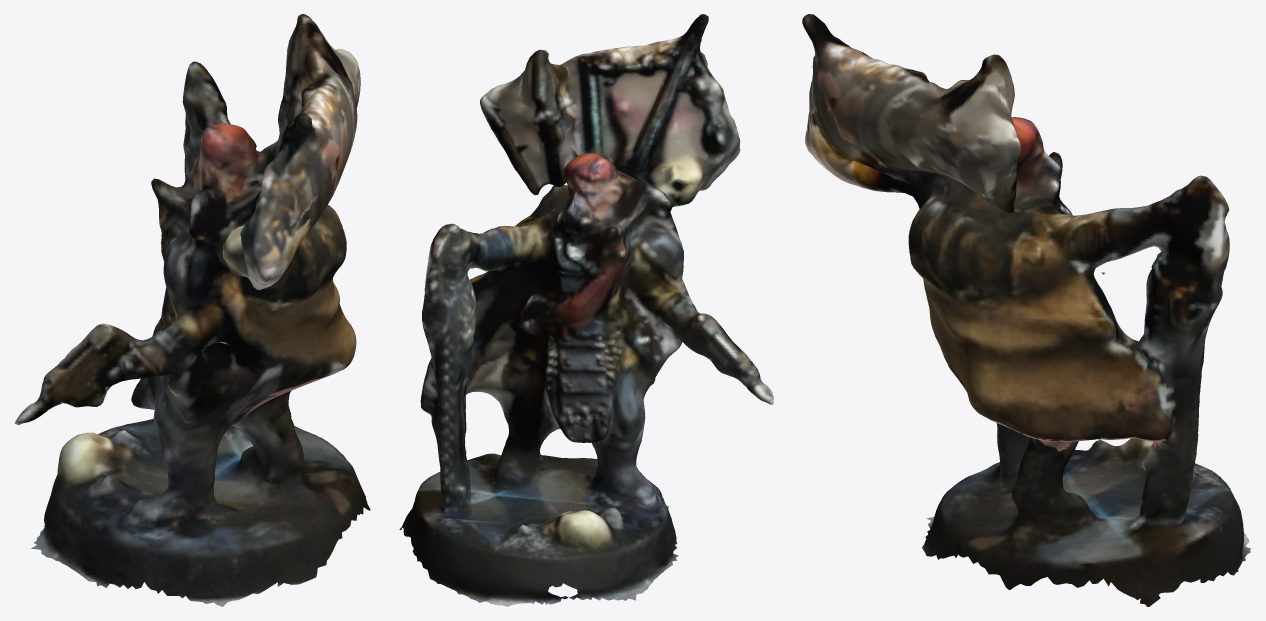
Rendered from updated sergeant.obj.
The picture shows the model from 3 angles, left to right: view 1: azimuth 30°, elevation 25°; view 2: azimuth 150°, elevation 25°; view 3: azimuth 270°, elevation 25°; orthographic projection. The views are drawn at different scales.
Visible parts, largest first — view 1: model; view 2: model; view 3: model.
Boxes of the visible parts, x1=… form: model: x1=14, y1=14, x2=370, y2=606; model: x1=399, y1=14, x2=773, y2=606; model: x1=802, y1=14, x2=1251, y2=606.
Bounding box in the file's own units: 1.16 × 1.63 × 1.27.
2 materials, 2 textured.
